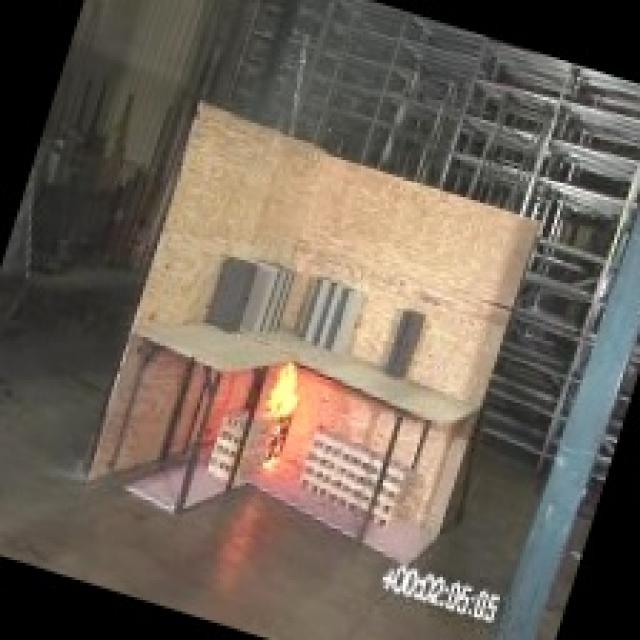fire: (230, 336, 350, 453)
